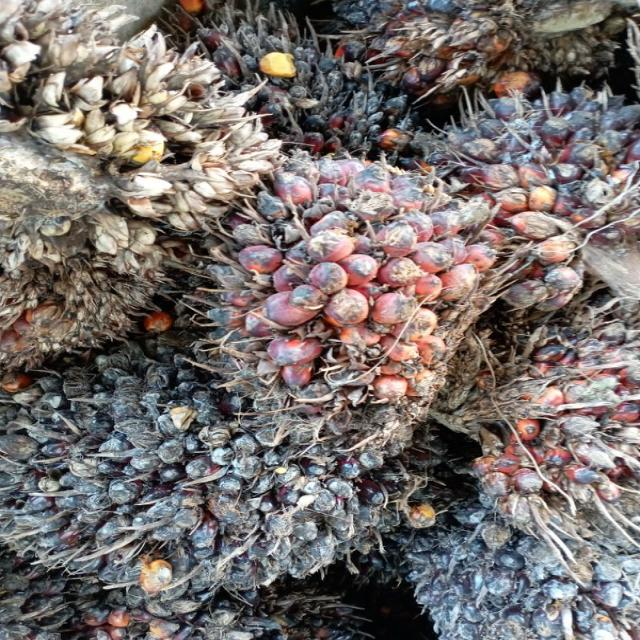fraksi 00: (6, 337, 421, 601)
fraksi 1: (204, 156, 509, 408)
